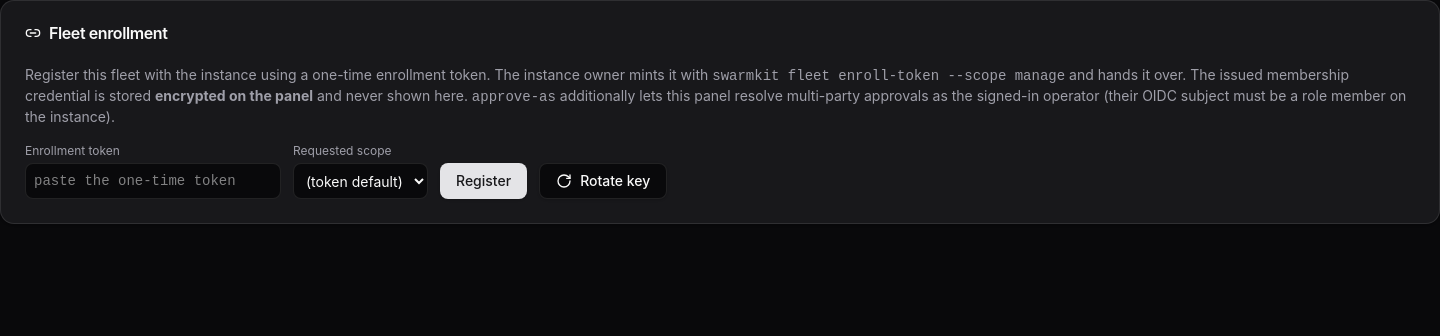
Test case: EnrollmentPanel › rotates the key and shows the rotated fingerprint
The width and height of the screenshot is (1440, 336).
Click the button "Rotate key" at (603, 181), box [539,163,667,199]
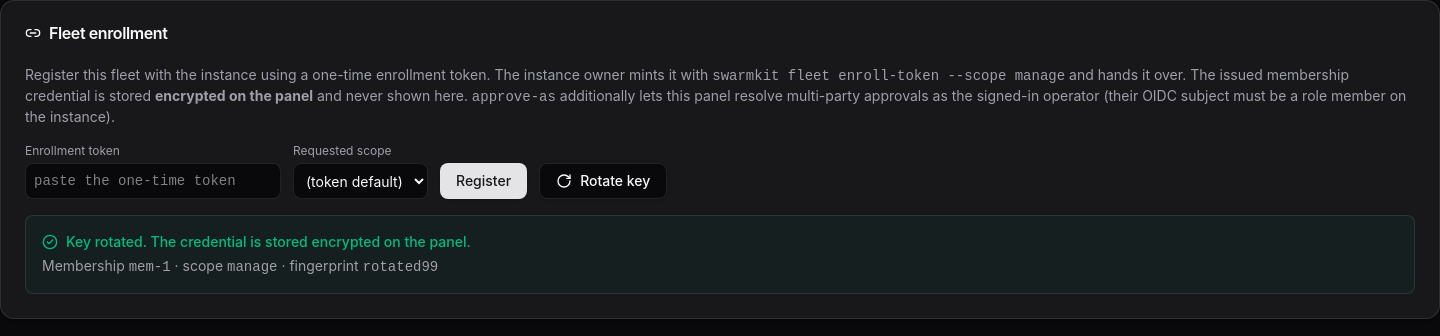
Result: the text "Key rotated." is shown at [66,233,147,250]
Result: the text "rotated99" is shown at [363,259,438,275]
